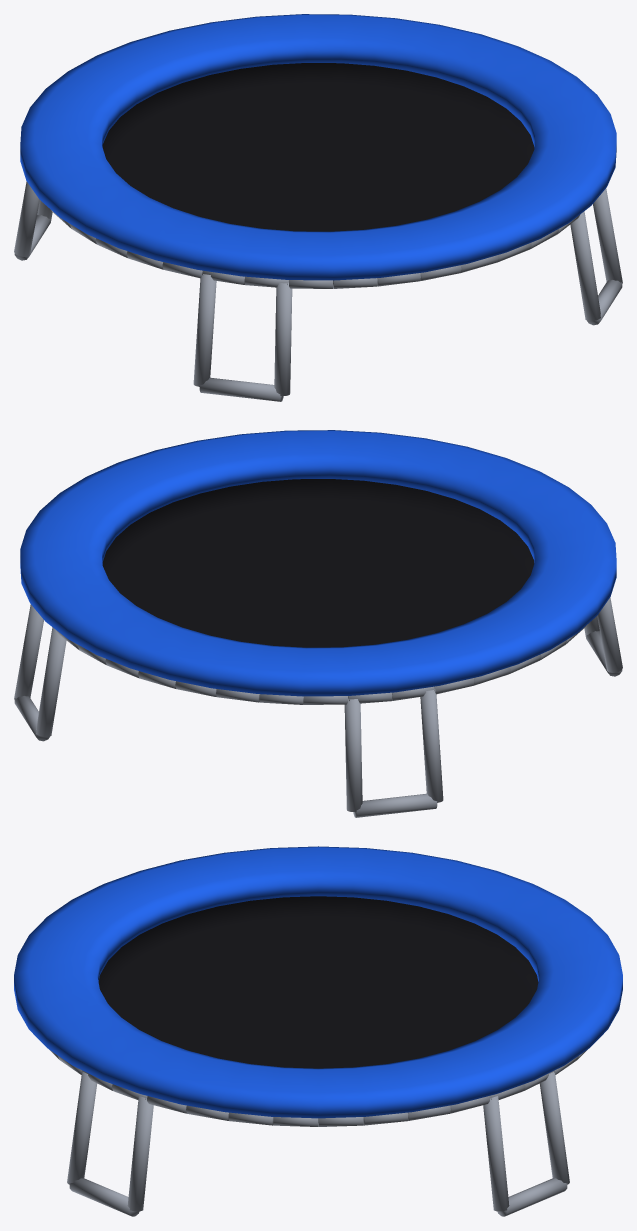
Rendered from trampoline.glb.
The picture shows the model from 3 angles, top to bottom: view 1: azimuth 30°, elevation 25°; view 2: azimuth 150°, elevation 25°; view 3: azimuth 270°, elevation 25°; orthographic projection.
Parts seen in each view (by area): view 1: Rim, Mat, Legs; view 2: Rim, Mat, Legs; view 3: Rim, Mat, Legs.
Boxes of the visible parts, box(x1,y1,x2,y2) form: Rim: box(20, 14, 616, 280); Mat: box(102, 63, 534, 231); Legs: box(14, 181, 622, 401); Rim: box(20, 430, 616, 696); Mat: box(102, 479, 534, 647); Legs: box(14, 597, 622, 817); Rim: box(14, 846, 622, 1118); Mat: box(98, 896, 538, 1068); Legs: box(50, 1050, 586, 1216).
Bounding box in the file's own units: 2.56 × 0.665 × 2.56.
